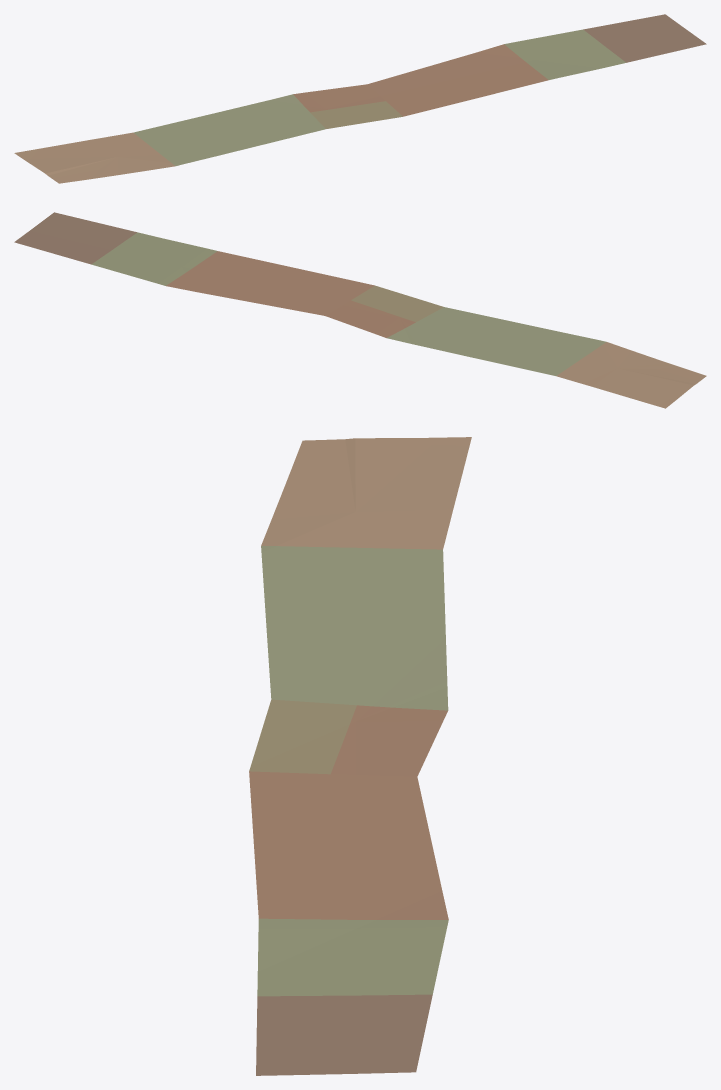
The model's file is farm_26_29_soil.glb.
The picture shows the model from 3 angles, top to bottom: view 1: azimuth 30°, elevation 25°; view 2: azimuth 150°, elevation 25°; view 3: azimuth 270°, elevation 25°; orthographic projection. The views are drawn at different scales.
Parts seen in each view (by area): view 1: geometry_0; view 2: geometry_0; view 3: geometry_0.
Part boxes in pixels (box(x1,y1,x2,y2)): geometry_0: box(14, 14, 706, 183); geometry_0: box(14, 212, 706, 408); geometry_0: box(249, 437, 471, 1075).
Bounding box in the file's own units: 245 × 2.91 × 37.01.
